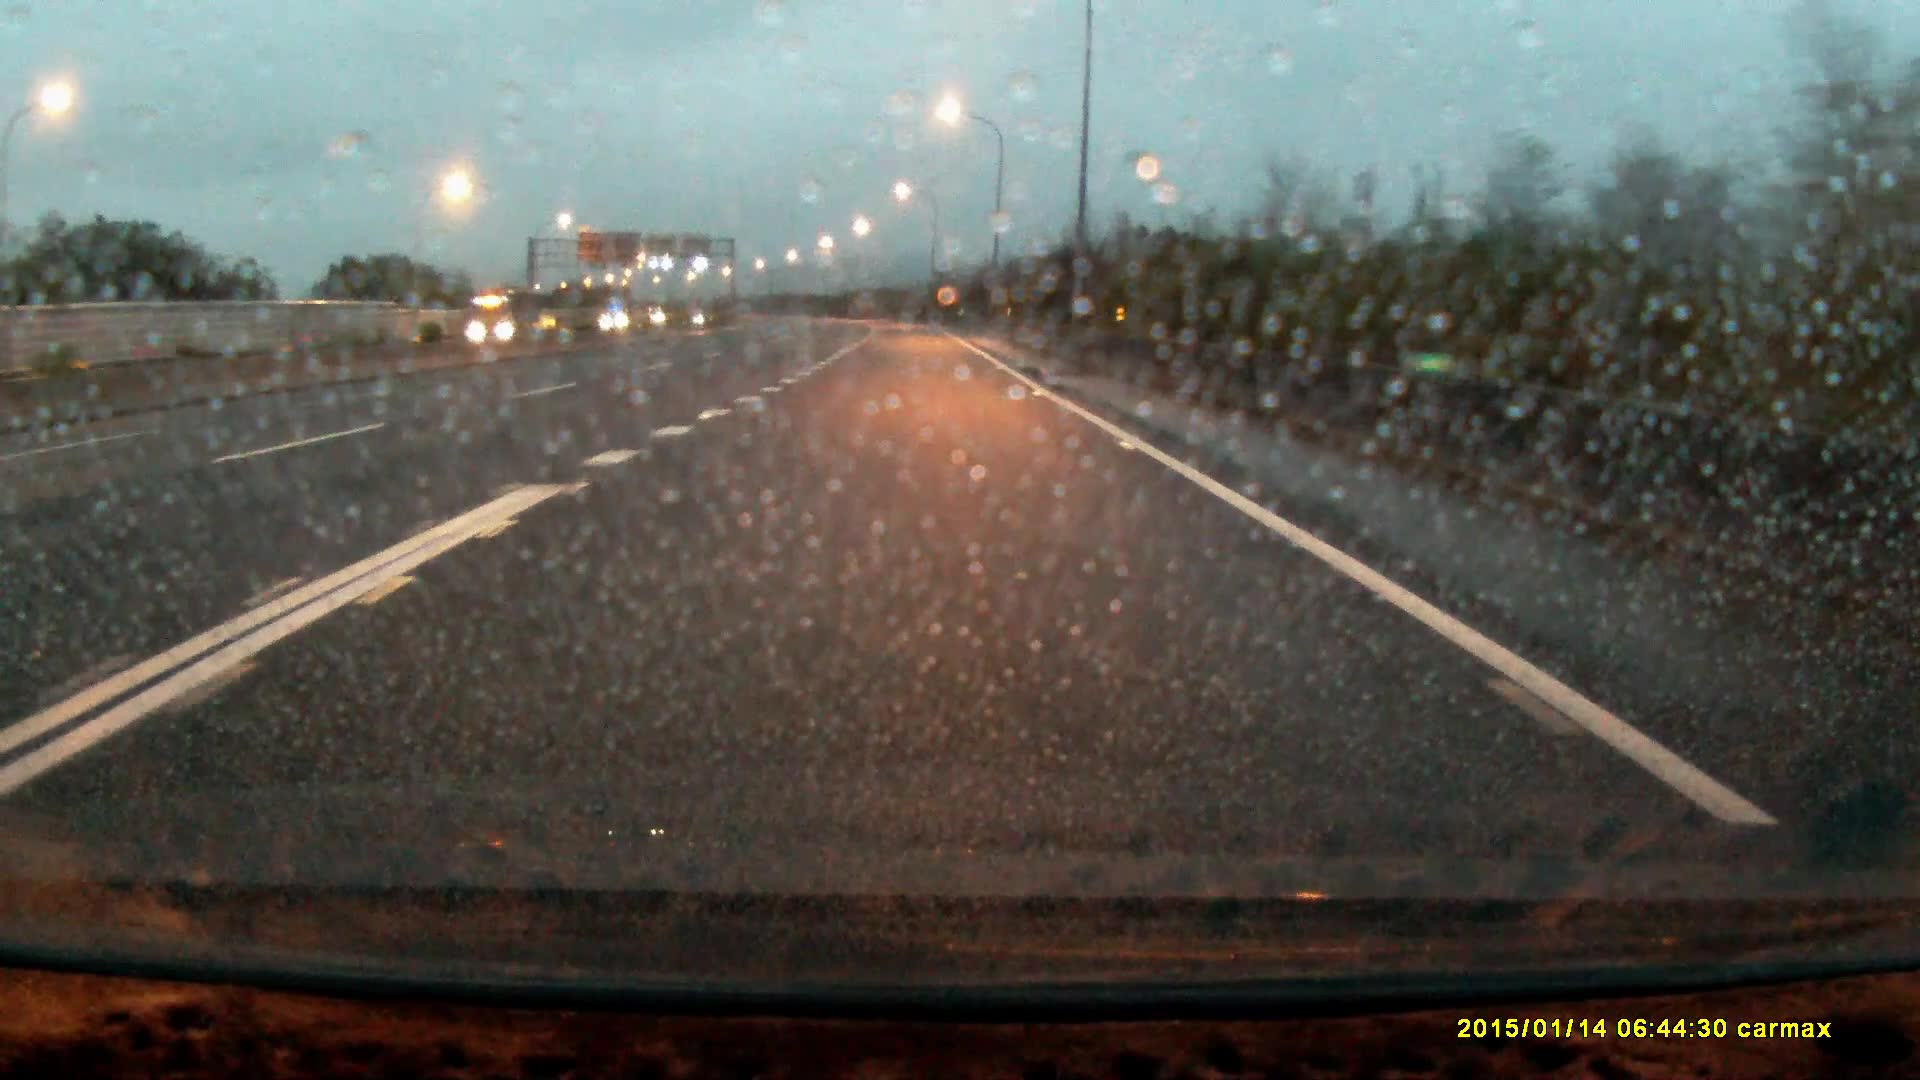vehicle: (469, 297, 539, 343)
